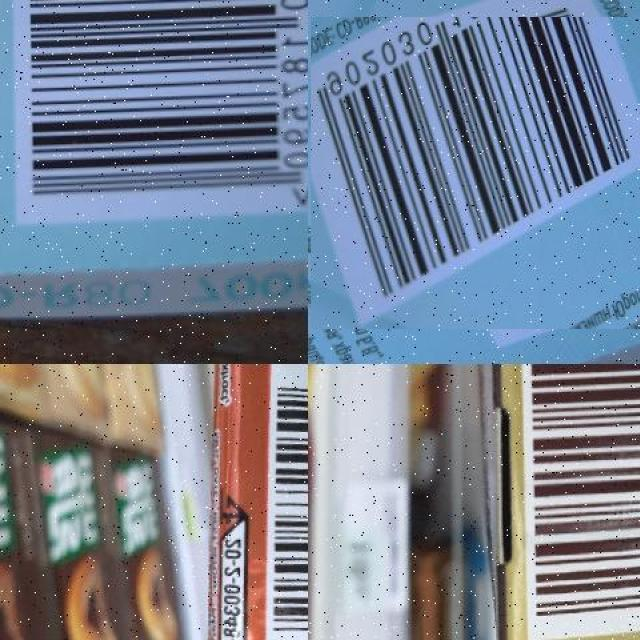Barcode: (320, 8, 640, 338), (11, 0, 309, 217), (523, 363, 640, 629), (261, 364, 308, 640)
